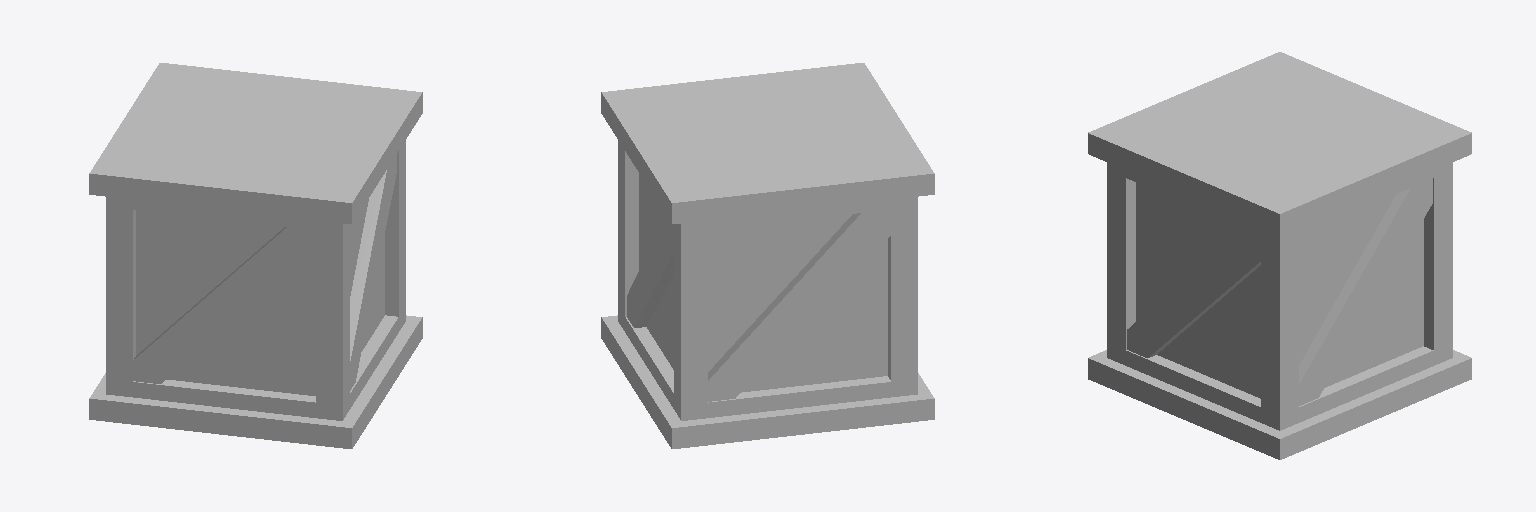
The model's file is crate_2_angled.obj.
The picture shows the model from 3 angles: view 1: azimuth 30°, elevation 25°; view 2: azimuth 150°, elevation 25°; view 3: azimuth 270°, elevation 25°; orthographic projection.
Visible parts, largest first — view 1: Crate_2_Angled_Cube.039; view 2: Crate_2_Angled_Cube.039; view 3: Crate_2_Angled_Cube.039.
Boxes of the visible parts, box(x1,y1,x2,y2) form: Crate_2_Angled_Cube.039: box(89, 63, 422, 448); Crate_2_Angled_Cube.039: box(601, 63, 934, 448); Crate_2_Angled_Cube.039: box(1088, 52, 1471, 459).
Bounding box in the file's own units: 1.41 × 0.9987 × 1.41.